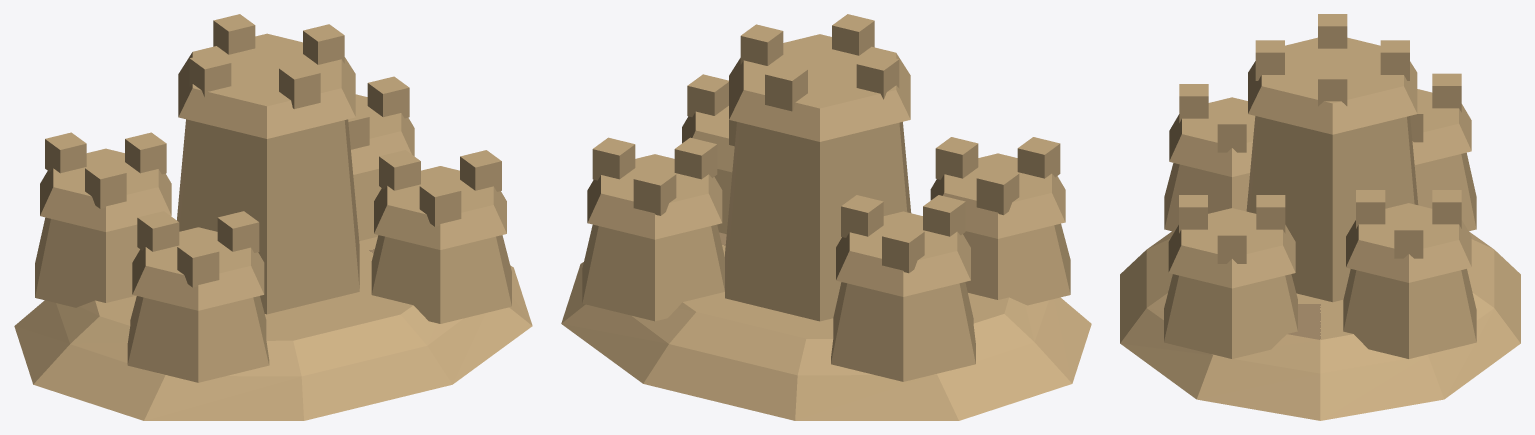
File: sandcastle.glb
The picture shows the model from 3 angles, left to right: view 1: azimuth 30°, elevation 25°; view 2: azimuth 150°, elevation 25°; view 3: azimuth 270°, elevation 25°; orthographic projection. The views are drawn at different scales.
Parts seen in each view (by area): view 1: sandcastle; view 2: sandcastle; view 3: sandcastle.
Part boxes in pixels (x1,y1,x2,y2): sandcastle: (14,14,532,420); sandcastle: (561,14,1091,420); sandcastle: (1120,14,1520,420).
Size of the model in its own units: 0.78 by 0.426 by 0.5897.
1 material, 1 textured.
